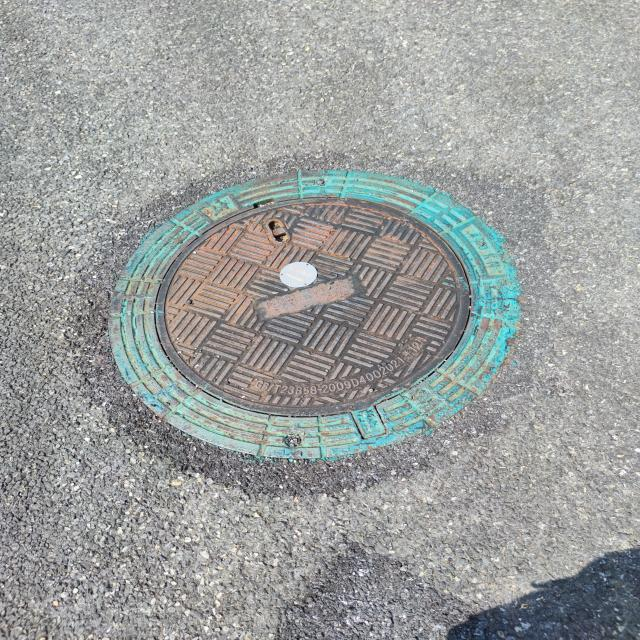Good: (98, 168, 529, 468)
